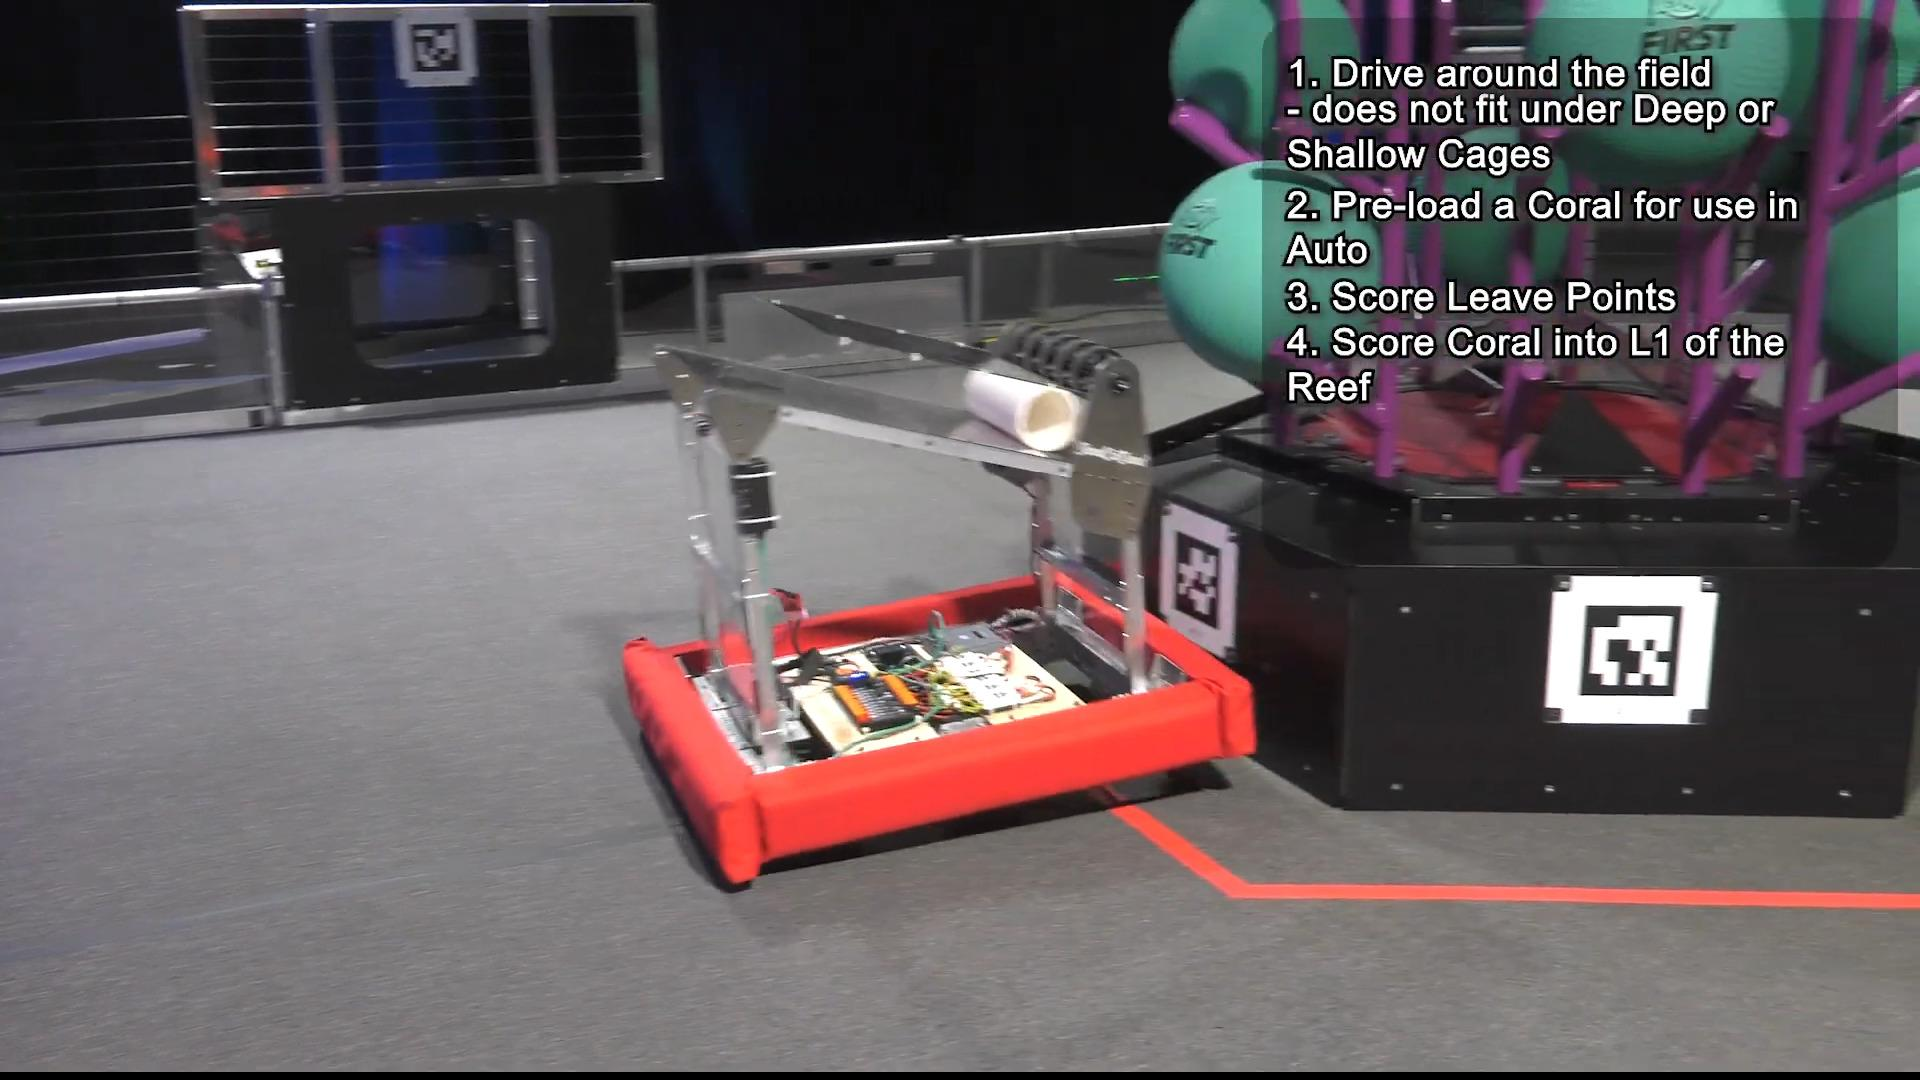coral: (960, 365, 1083, 454)
